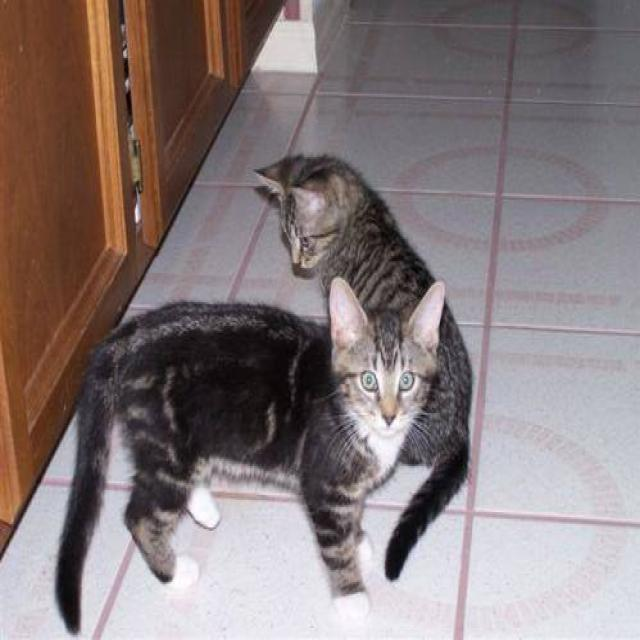cat: (53, 273, 464, 635), (251, 150, 472, 580)
